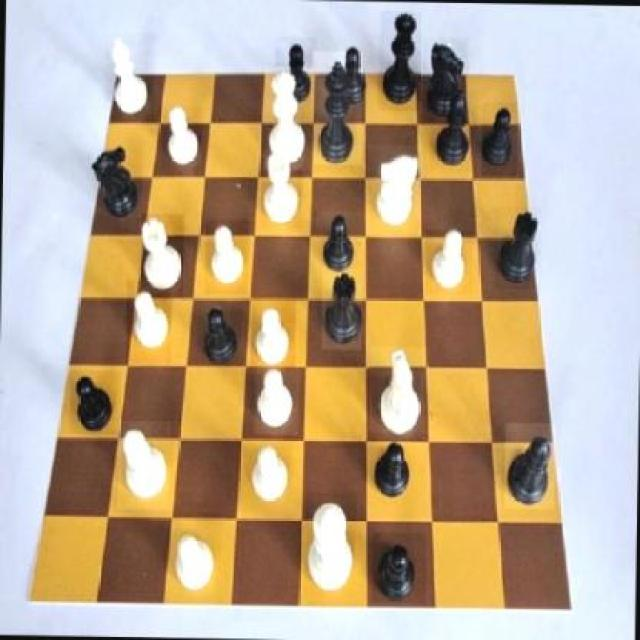bishop: (504, 422, 556, 508), (430, 90, 478, 172)
black-bishop: (311, 50, 363, 164)
black-king: (88, 138, 142, 222), (422, 37, 468, 124)
black-knight: (369, 434, 422, 511), (371, 532, 426, 603), (69, 371, 120, 435), (316, 211, 364, 277), (194, 302, 238, 369), (274, 37, 316, 106), (482, 103, 518, 177), (335, 42, 373, 108)
black-pawn: (378, 10, 421, 111)
black-queen: (494, 206, 543, 289), (322, 268, 362, 350)
black-rook: (117, 420, 170, 510), (103, 30, 155, 121)
white-bishop: (305, 491, 357, 597)
white-king: (369, 348, 429, 434), (366, 144, 422, 233)
white-knight: (126, 278, 172, 366), (169, 524, 217, 606), (244, 436, 292, 516), (204, 218, 248, 294), (252, 298, 297, 368), (426, 229, 474, 294), (254, 368, 298, 434), (162, 105, 204, 172)
white-pawn: (265, 66, 317, 170)
white-queen: (140, 214, 184, 298), (261, 148, 304, 228)
